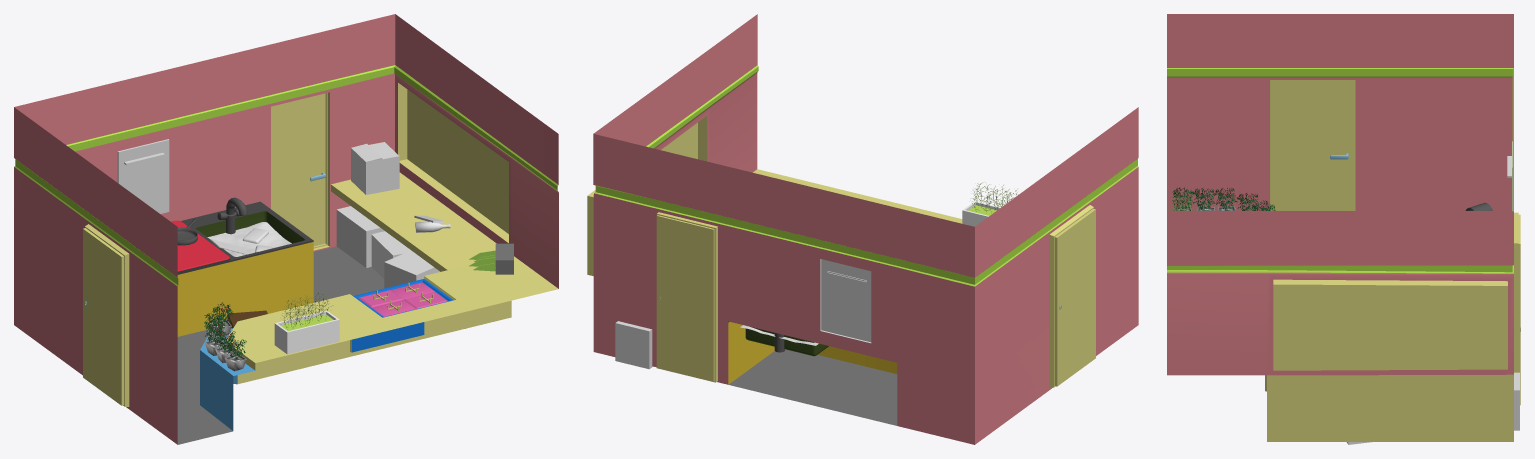
Rendered from Arena 1.fbx.
The picture shows the model from 3 angles, left to right: view 1: azimuth 30°, elevation 25°; view 2: azimuth 150°, elevation 25°; view 3: azimuth 270°, elevation 25°; orthographic projection. The views are drawn at different scales.
Visible parts, largest first — view 1: Wand, Plane, Wand.003, Wand.001, Cube.002, Wasser, Wand.002, Hahn; view 2: Wand, Plane, Wand.003, Wand.001; view 3: Wand, Wand.003.
Part boxes in pixels (<box>): Wand: <box>14,14,558,444</box>; Plane: <box>171,201,313,336</box>; Wand.003: <box>336,206,465,328</box>; Wand.001: <box>274,292,339,354</box>; Cube.002: <box>351,142,399,194</box>; Wasser: <box>207,222,291,256</box>; Wand.002: <box>469,243,513,274</box>; Hahn: <box>217,197,247,234</box>; Wand: <box>587,14,1138,444</box>; Plane: <box>728,321,897,384</box>; Wand.003: <box>615,321,652,369</box>; Wand.001: <box>962,182,1018,226</box>; Wand: <box>1167,14,1520,441</box>; Wand.003: <box>1346,372,1519,444</box>.
Bounding box in the file's own units: 9264 × 4975 × 6737.
